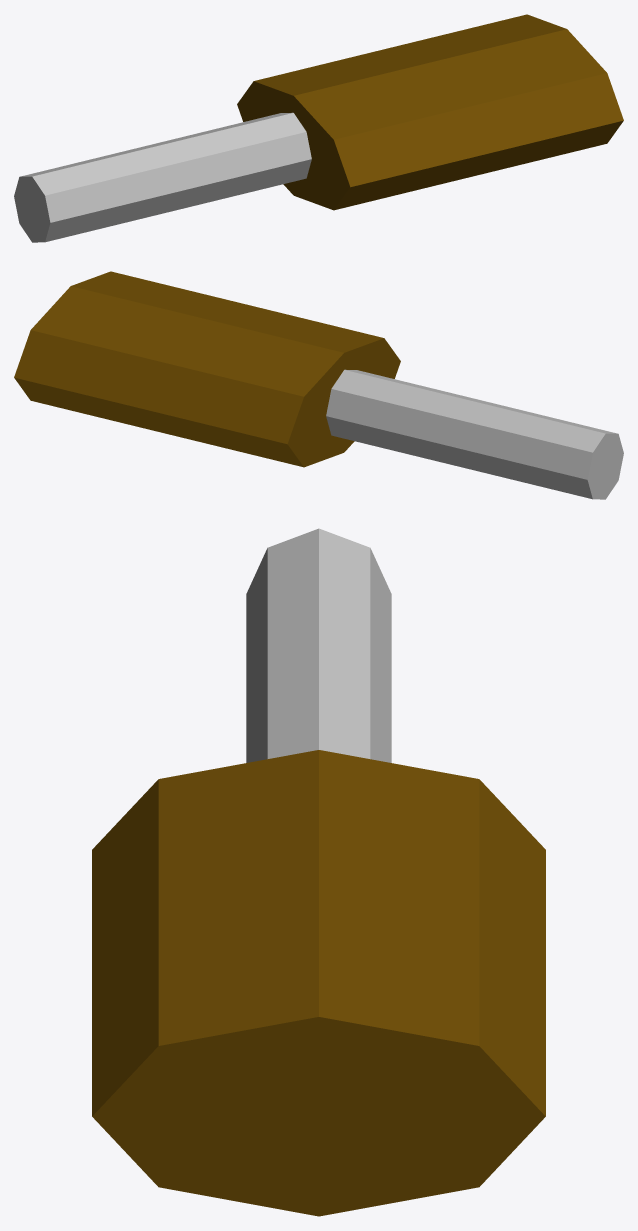
Rendered from Rib.fbx.
The picture shows the model from 3 angles, top to bottom: view 1: azimuth 30°, elevation 25°; view 2: azimuth 150°, elevation 25°; view 3: azimuth 270°, elevation 25°; orthographic projection. The views are drawn at different scales.
Parts seen in each view (by area): view 1: Rib; view 2: Rib; view 3: Rib.
Part boxes in pixels (box(x1,y1,x2,y2)): Rib: box(14, 14, 623, 242); Rib: box(14, 271, 623, 499); Rib: box(92, 528, 545, 1216).
Size of the model in its own units: 19.68 by 3.51 by 7.23.
